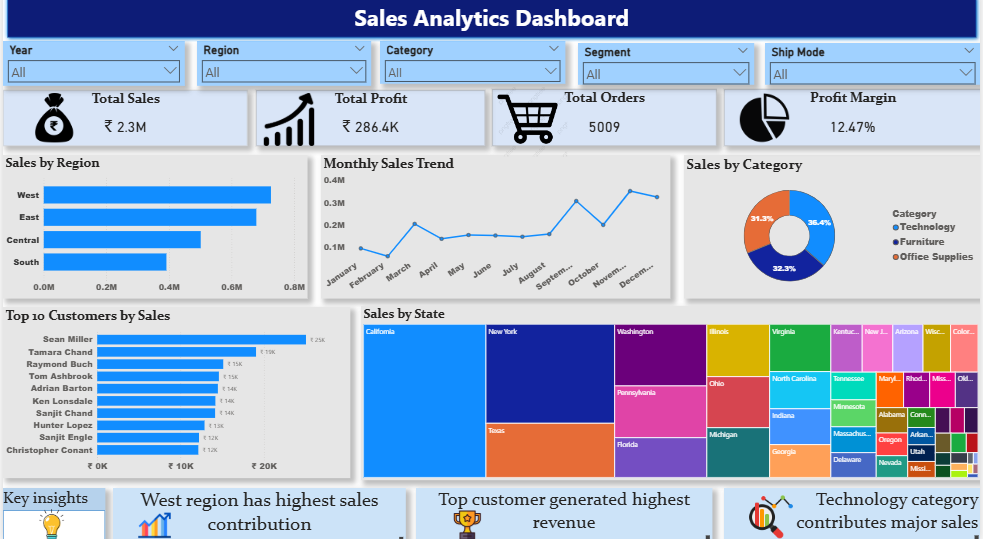

What the dashboard file says about the page in this screenshot:
{"tool":"powerbi","page":{"name":"Page 1","canvas":[1920,1080],"ordinal":0},"visuals":[{"type":"card","title":"Total Sales","fields":{"Values":["Sum(Sample - Superstore.Sales)"]},"box":[0,191.8,480.5,110.2],"z":0},{"type":"card","title":"Total Orders","fields":{"Values":["Count(Sample - Superstore.Order ID)"]},"box":[961,189.6,440.8,112.4],"z":1000},{"type":"card","title":"Total Profit","fields":{"Values":["Sum(Sample - Superstore.Profit)"]},"box":[495.9,191.8,449.6,110.2],"z":2000},{"type":"clusteredBarChart","title":"Sales by Region","fields":{"Category":["Sample - Superstore.Region"],"Y":["Sum(Sample - Superstore.Sales)"]},"box":[0,320,598,282],"z":3000},{"type":"lineChart","title":"Monthly Sales Trend","fields":{"Category":["Sample - Superstore.Order Date.Variation.Date Hierarchy.Month"],"Y":["Sum(Sample - Superstore.Sales)"]},"box":[624,320,686,282],"z":4000},{"type":"donutChart","title":"Sales by Category","fields":{"Category":["Sample - Superstore.Category"],"Y":["Sum(Sample - Superstore.Sales)"]},"box":[1338,320,582,282],"z":5000},{"type":"card","title":"Profit Margin","fields":{"Values":["Sample - Superstore.Profit Margin"]},"box":[1415,189.6,504.7,112.4],"z":6000},{"type":"clusteredBarChart","title":"Top 10 Customers by Sales ","fields":{"Category":["Sample - Superstore.Customer Name"],"Y":["Sum(Sample - Superstore.Sales)"]},"box":[0,618,682,336],"z":7000},{"type":"treemap","title":"Sales by State","fields":{"Group":["Sample - Superstore.State"],"Values":["Sum(Sample - Superstore.Sales)"]},"box":[703.1,617.1,1216.7,341.6],"z":8000},{"type":"slicer","title":"Year","fields":{"Values":["Sample - Superstore.Order Date.Variation.Date Hierarchy.Year"]},"box":[0,97,357.1,88.2],"z":9000},{"type":"slicer","title":"Region","fields":{"Values":["Sample - Superstore.Region"]},"box":[381.3,97,341.6,88.2],"z":10000},{"type":"slicer","fields":{"Values":["Sample - Superstore.Category"]},"box":[740.6,97,363.7,83.8],"z":11000},{"type":"shape","box":[0,0,1920,98],"z":12000},{"type":"slicer","fields":{"Values":["Sample - Superstore.Segment"]},"box":[1128.5,99.2,346,81.6],"z":13000},{"type":"slicer","fields":{"Values":["Sample - Superstore.Ship Mode"]},"box":[1496.6,99.2,423.2,81.6],"z":14000},{"type":"shape","title":"Key insights","box":[0,974.2,200.6,103.6],"z":15000},{"type":"textbox","title":"West region has highest sales contribution","box":[216,974.2,575.3,105.8],"z":16000},{"type":"textbox","title":"Top customer generated highest revenue","box":[811.1,974.2,581.9,105.8],"z":17000},{"type":"textbox","title":"Technology category contributes major sales","box":[1415,974.2,504.7,105.8],"z":18000},{"type":"image","box":[480.5,198.4,160.9,103.6],"z":19000},{"type":"image","box":[0,198.4,200.6,97],"z":20000},{"type":"image","box":[969.8,187.3,138.9,136.7],"z":21000},{"type":"image","box":[1415,198.4,158.7,97],"z":22000},{"type":"image","box":[55.1,1016.1,81.6,63.9],"z":23000},{"type":"image","box":[240.2,1016.1,116.8,63.9],"z":23001},{"type":"image","box":[813.3,1016.1,198.4,63.9],"z":23002},{"type":"image","box":[1441.5,985.2,132.2,90.4],"z":23003}]}

Visuals, with their boxes in screenshot pixels (x1, y1, x2, y2), scaled from the page's 1920x1080 canvas onto the 983x539 screenshot:
"Total Sales" card: (x1=0, y1=96, x2=246, y2=151)
"Total Orders" card: (x1=492, y1=95, x2=718, y2=151)
"Total Profit" card: (x1=254, y1=96, x2=484, y2=151)
"Sales by Region" clusteredBarChart: (x1=0, y1=160, x2=306, y2=300)
"Monthly Sales Trend" lineChart: (x1=319, y1=160, x2=671, y2=300)
"Sales by Category" donutChart: (x1=685, y1=160, x2=982, y2=300)
"Profit Margin" card: (x1=724, y1=95, x2=982, y2=151)
"Top 10 Customers by Sales " clusteredBarChart: (x1=0, y1=308, x2=349, y2=476)
"Sales by State" treemap: (x1=360, y1=308, x2=982, y2=478)
"Year" slicer: (x1=0, y1=48, x2=183, y2=92)
"Region" slicer: (x1=195, y1=48, x2=370, y2=92)
slicer - Sample - Superstore.Category: (x1=379, y1=48, x2=565, y2=90)
shape: (x1=0, y1=0, x2=982, y2=49)
slicer - Sample - Superstore.Segment: (x1=578, y1=50, x2=755, y2=90)
slicer - Sample - Superstore.Ship Mode: (x1=766, y1=50, x2=982, y2=90)
"Key insights" shape: (x1=0, y1=486, x2=103, y2=538)
"West region has highest sales contribution" textbox: (x1=111, y1=486, x2=405, y2=538)
"Top customer generated highest revenue" textbox: (x1=415, y1=486, x2=713, y2=538)
"Technology category contributes major sales" textbox: (x1=724, y1=486, x2=982, y2=538)
image: (x1=246, y1=99, x2=328, y2=151)
image: (x1=0, y1=99, x2=103, y2=147)
image: (x1=497, y1=93, x2=568, y2=162)
image: (x1=724, y1=99, x2=806, y2=147)
image: (x1=28, y1=507, x2=70, y2=538)
image: (x1=123, y1=507, x2=183, y2=538)
image: (x1=416, y1=507, x2=518, y2=538)
image: (x1=738, y1=492, x2=806, y2=537)
